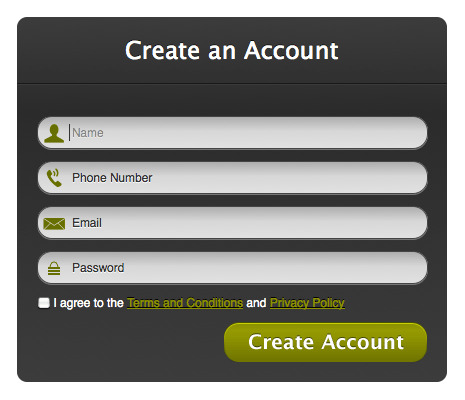_form_: (23, 1, 439, 400)
button: (223, 322, 427, 362)
checkbox: (37, 297, 53, 310)
checkbox_with_label: (35, 295, 348, 311)
field: (35, 251, 428, 286), (37, 115, 428, 150), (37, 161, 428, 195), (37, 206, 428, 240)
